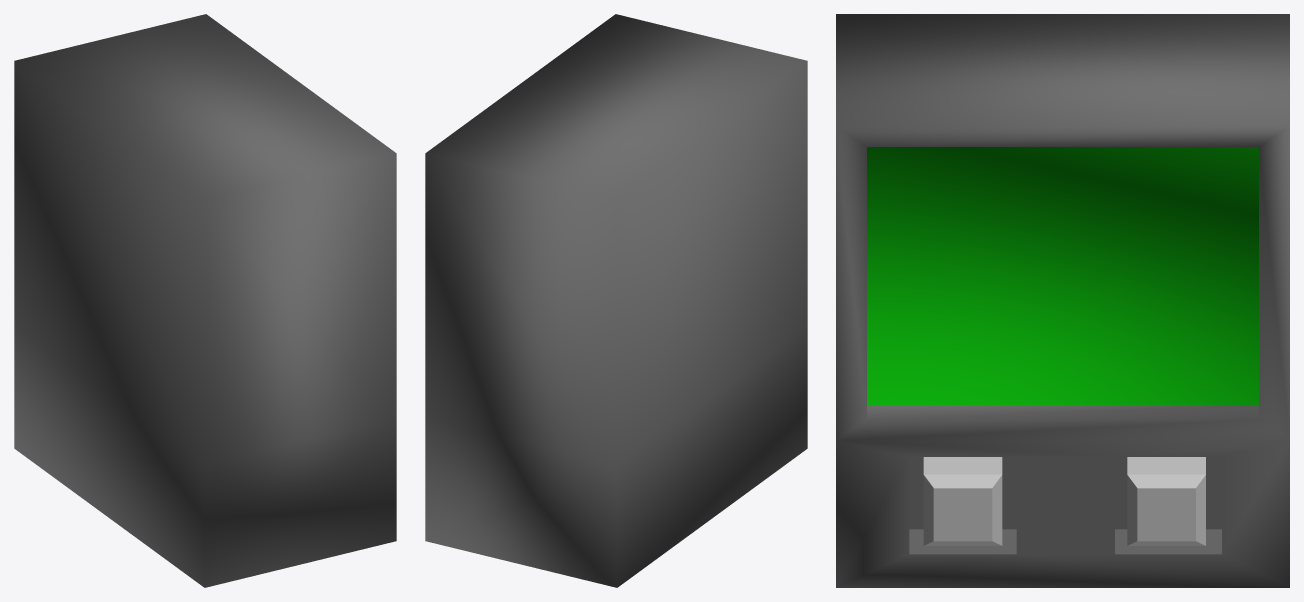
The model's file is Shop Purchase Kiosk.fbx.
3 views of the same model, side by side, from view 1: azimuth 30°, elevation 25°; view 2: azimuth 150°, elevation 25°; view 3: azimuth 270°, elevation 25° (orthographic). The views are drawn at different scales.
Parts seen in each view (by area): view 1: Cube; view 2: Cube; view 3: Cube, Cube.001, Cube.002.
Part boxes in pixels (left/top/right/bottom): Cube: left=14, top=14, right=396, bottom=587; Cube: left=425, top=14, right=807, bottom=587; Cube: left=836, top=14, right=1289, bottom=587; Cube.001: left=923, top=457, right=1002, bottom=545; Cube.002: left=1127, top=457, right=1205, bottom=545.
Size of the model in its own units: 189 by 337 by 300.
